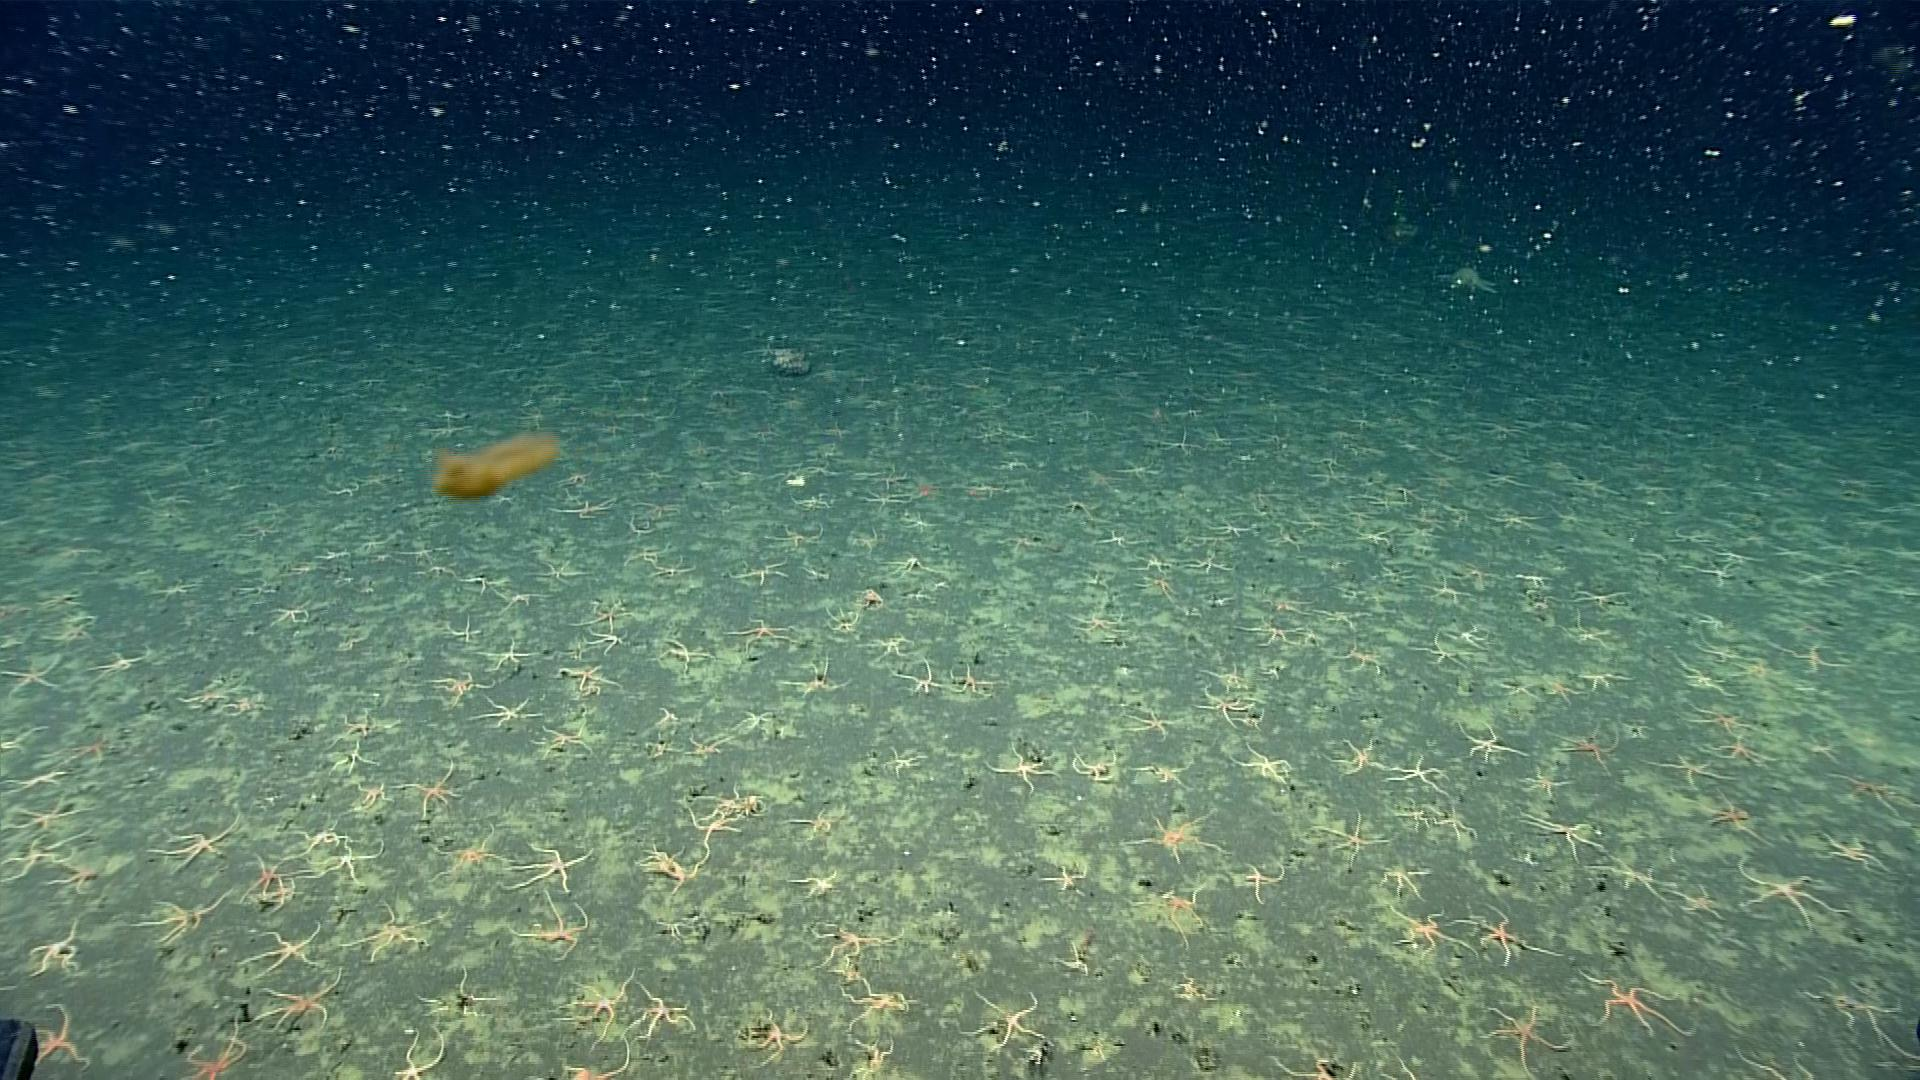brittle_sea_star: (1737, 858, 1849, 928), (553, 960, 636, 1044), (1480, 1001, 1571, 1075), (1821, 989, 1919, 1056), (1449, 907, 1555, 968), (1581, 973, 1680, 1036), (133, 885, 233, 947), (340, 907, 450, 961), (256, 968, 347, 1033), (512, 887, 588, 964), (1681, 783, 1774, 847), (236, 918, 323, 982), (960, 989, 1051, 1048), (1124, 812, 1230, 862), (1391, 903, 1482, 960), (145, 819, 235, 876), (1138, 877, 1211, 947), (177, 1015, 255, 1079), (800, 922, 897, 971), (393, 762, 468, 824), (626, 980, 698, 1043), (506, 841, 593, 893), (427, 827, 502, 886), (1, 835, 92, 884), (417, 967, 500, 1019), (1594, 851, 1675, 905), (32, 997, 91, 1069), (1826, 766, 1916, 814), (1522, 816, 1607, 864), (1309, 812, 1390, 862), (839, 980, 915, 1030), (679, 798, 742, 857), (389, 1022, 452, 1079), (1639, 749, 1733, 787), (744, 1009, 811, 1062), (990, 738, 1058, 791), (629, 840, 692, 895), (28, 918, 86, 976), (309, 843, 382, 884), (240, 852, 294, 906), (0, 651, 69, 694), (0, 796, 84, 831), (1382, 750, 1448, 794), (1407, 629, 1477, 670), (1555, 728, 1618, 773), (1826, 832, 1888, 877), (728, 615, 800, 653), (1319, 736, 1386, 777), (1680, 696, 1754, 733), (1455, 723, 1523, 762), (778, 662, 851, 699), (1782, 640, 1857, 675), (555, 1044, 633, 1079), (1373, 857, 1437, 898), (1199, 684, 1257, 729), (1229, 745, 1298, 782), (476, 637, 542, 674), (1718, 736, 1780, 771), (654, 637, 713, 674), (472, 695, 538, 728), (554, 665, 618, 698), (537, 719, 596, 754), (1667, 882, 1726, 918), (430, 670, 492, 703), (709, 782, 769, 816), (294, 815, 342, 857), (1273, 1051, 1344, 1079), (1505, 767, 1565, 799), (849, 1034, 891, 1079), (1236, 615, 1296, 645), (1133, 754, 1196, 783), (944, 659, 996, 695), (1201, 658, 1257, 691), (1432, 802, 1480, 840), (1039, 862, 1092, 897), (791, 869, 841, 905), (578, 599, 634, 629), (898, 659, 943, 696), (1242, 864, 1287, 901), (1069, 750, 1120, 783), (50, 860, 107, 889), (1561, 616, 1613, 647), (733, 559, 787, 588), (1069, 608, 1127, 634), (579, 613, 629, 644), (545, 497, 612, 520), (92, 650, 145, 678), (178, 683, 231, 711), (1126, 705, 1174, 736), (1418, 578, 1469, 605), (1340, 641, 1381, 675), (1131, 566, 1182, 593), (324, 744, 372, 773), (764, 526, 822, 550), (3, 767, 67, 789), (1573, 666, 1633, 688), (335, 712, 386, 737), (1133, 550, 1179, 578), (786, 810, 836, 835), (492, 589, 545, 613), (884, 746, 926, 775), (1058, 940, 1092, 976), (866, 633, 910, 659), (74, 731, 113, 760), (1578, 585, 1627, 608), (1805, 732, 1842, 761), (823, 608, 862, 634), (621, 542, 667, 564), (890, 546, 928, 572), (679, 736, 724, 758), (1451, 620, 1486, 647), (1096, 525, 1134, 550), (1692, 564, 1737, 585), (1189, 550, 1229, 574), (270, 600, 310, 622), (231, 694, 269, 716), (459, 572, 505, 591), (447, 620, 477, 647), (1213, 518, 1253, 539), (1547, 675, 1581, 699), (857, 588, 891, 612), (355, 782, 386, 807), (1402, 803, 1433, 828), (152, 583, 198, 600), (897, 510, 938, 527), (1356, 529, 1398, 545), (654, 708, 680, 729), (645, 738, 670, 757)
